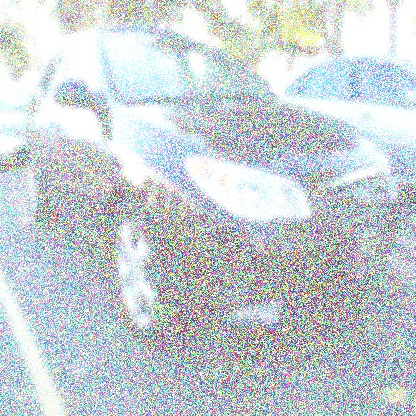Vehicle: (26, 23, 402, 346)
